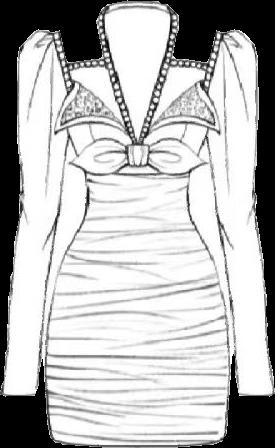Bodice: (54, 1, 224, 199)
Hemline: (49, 434, 227, 447)
Neckline: (57, 31, 221, 145), (58, 0, 220, 63)
Skirt: (45, 197, 230, 446)
Sleeve: (0, 30, 68, 395), (208, 30, 274, 396)
Sleeveline: (205, 30, 230, 90), (52, 31, 70, 87)
Waistline: (85, 193, 189, 203)
